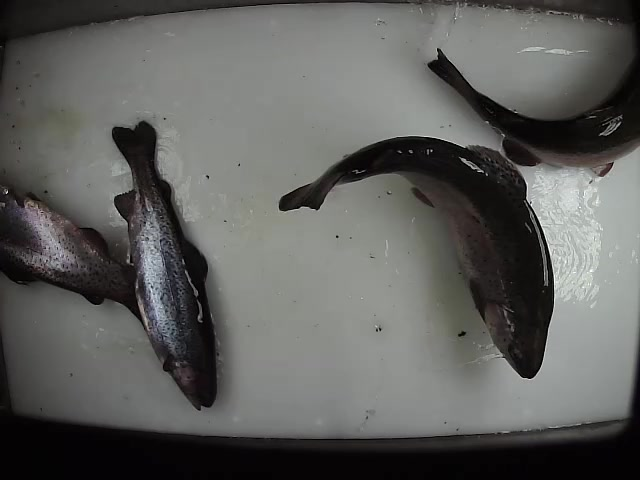fish: (278, 133, 557, 381), (110, 118, 220, 412)
